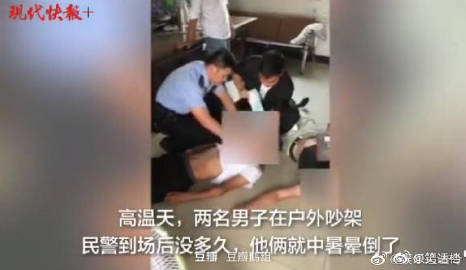fall: (136, 124, 288, 204)
